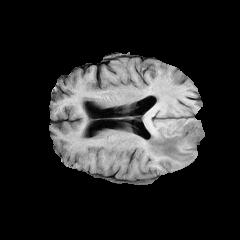glioma: (147, 119, 204, 161)
